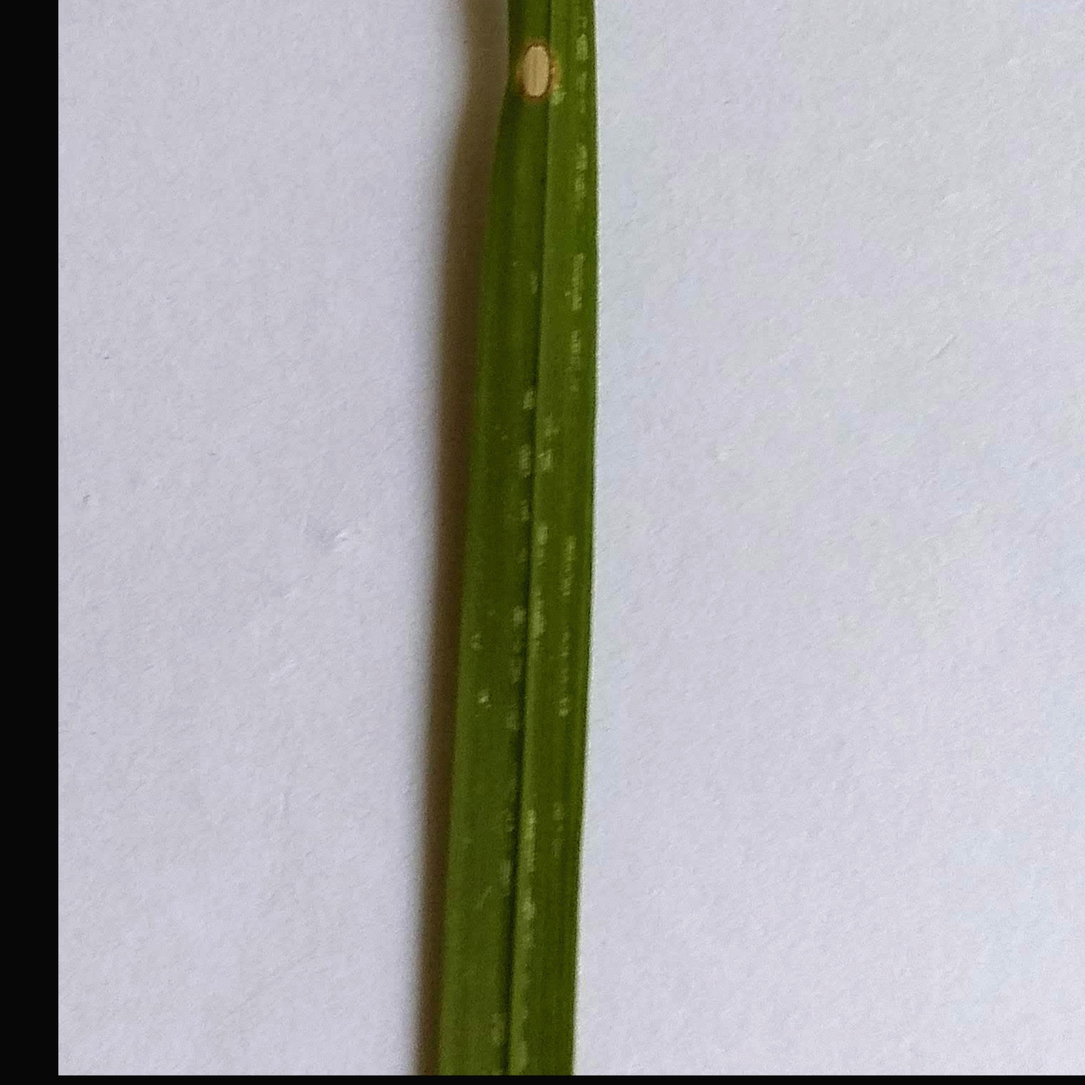Brown_Spot: (504, 30, 564, 107)
